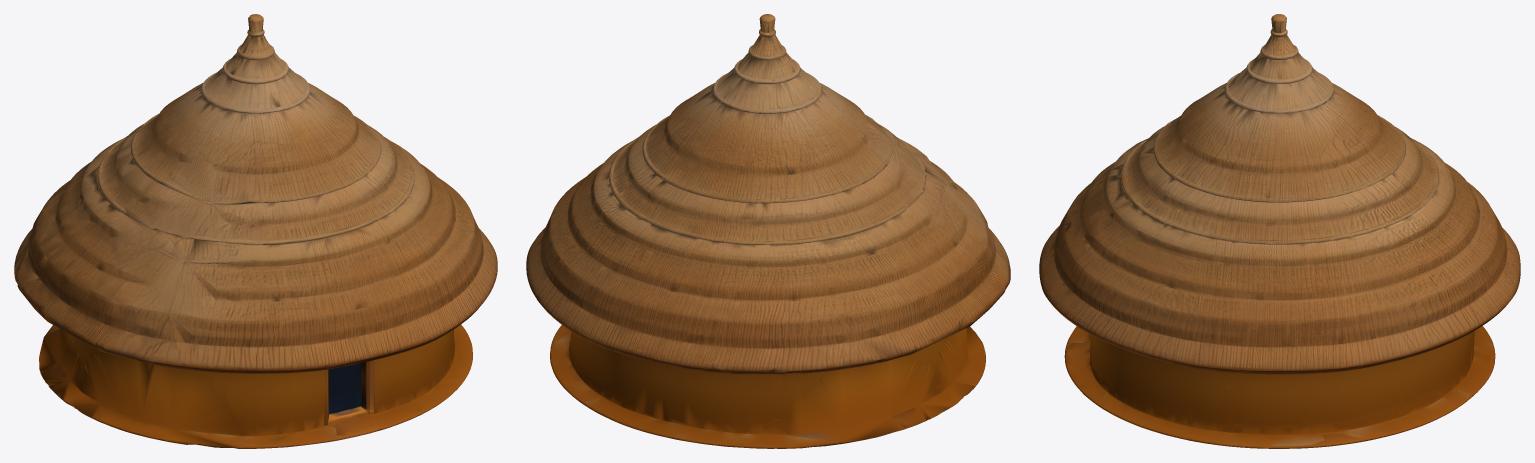
The model's file is Habitat Nord 3.fbx.
The picture shows the model from 3 angles, left to right: view 1: azimuth 30°, elevation 25°; view 2: azimuth 150°, elevation 25°; view 3: azimuth 270°, elevation 25°; orthographic projection.
Visible parts, largest first — view 1: texture_pbr_v128; view 2: texture_pbr_v128; view 3: texture_pbr_v128.
Boxes of the visible parts, x1,y1,x2,y2 form: texture_pbr_v128: (14,14,497,448); texture_pbr_v128: (526,14,1010,448); texture_pbr_v128: (1039,14,1520,448).
Size of the model in its own units: 100 by 78.6 by 100.
1 material, 1 textured.
